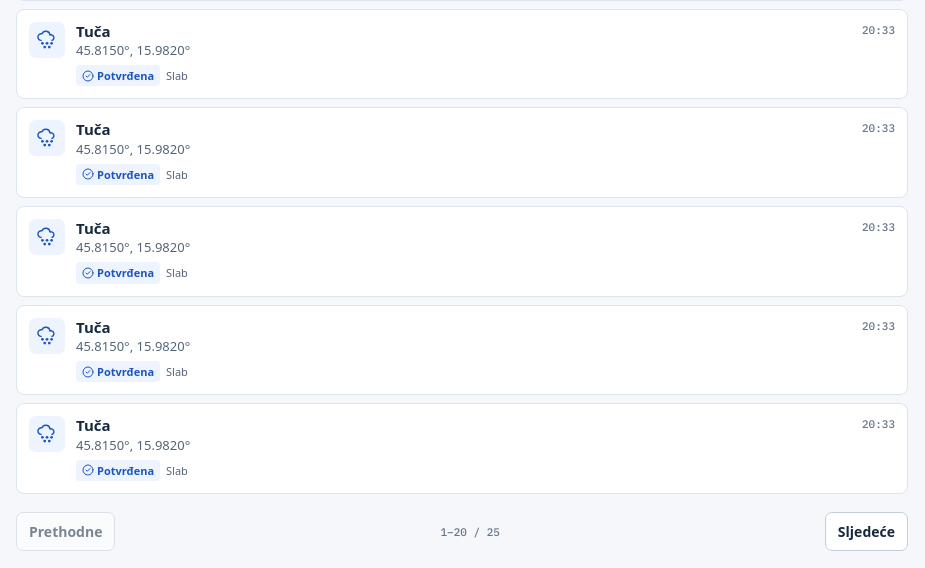
Test: „Moje prijave” › dijeli dulji popis na stranice po 20
The width and height of the screenshot is (925, 568).
(page scrolled)
Expected: the text "1–20 / 25" is shown, [440, 525, 500, 539]
Expected: the button "Prethodne" is disabled, [16, 512, 115, 551]
Click the button "Sljedeće" at (866, 532), box [825, 512, 908, 551]
(page scrolled)
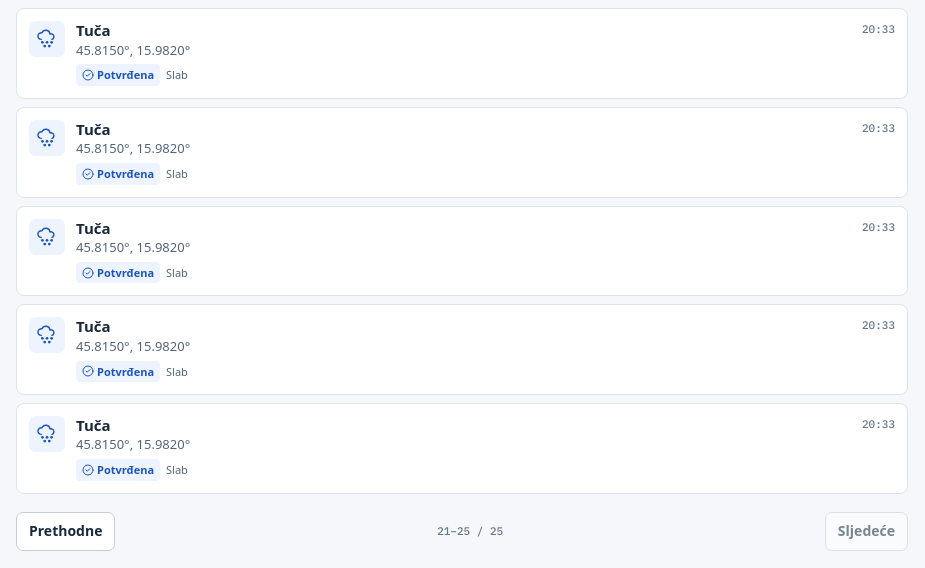
Now the text "21–25 / 25" is shown, box [437, 524, 503, 538]
Now the button "Sljedeće" is disabled, box [825, 512, 908, 551]
